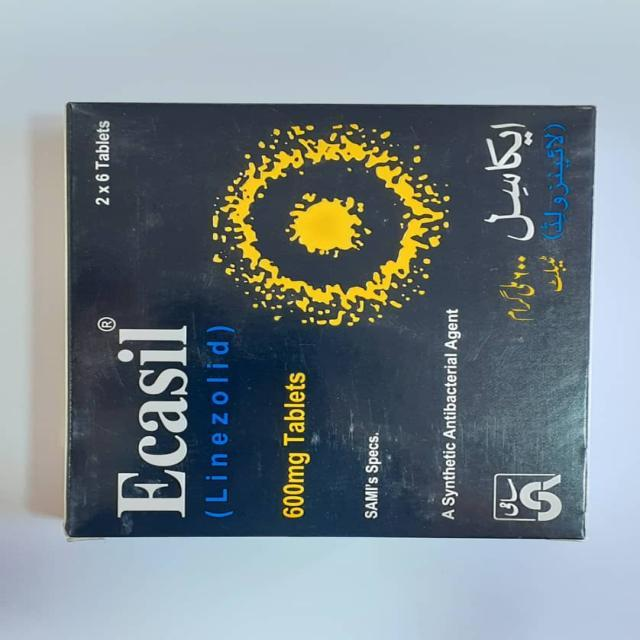drug-name: (94, 312, 188, 519)
